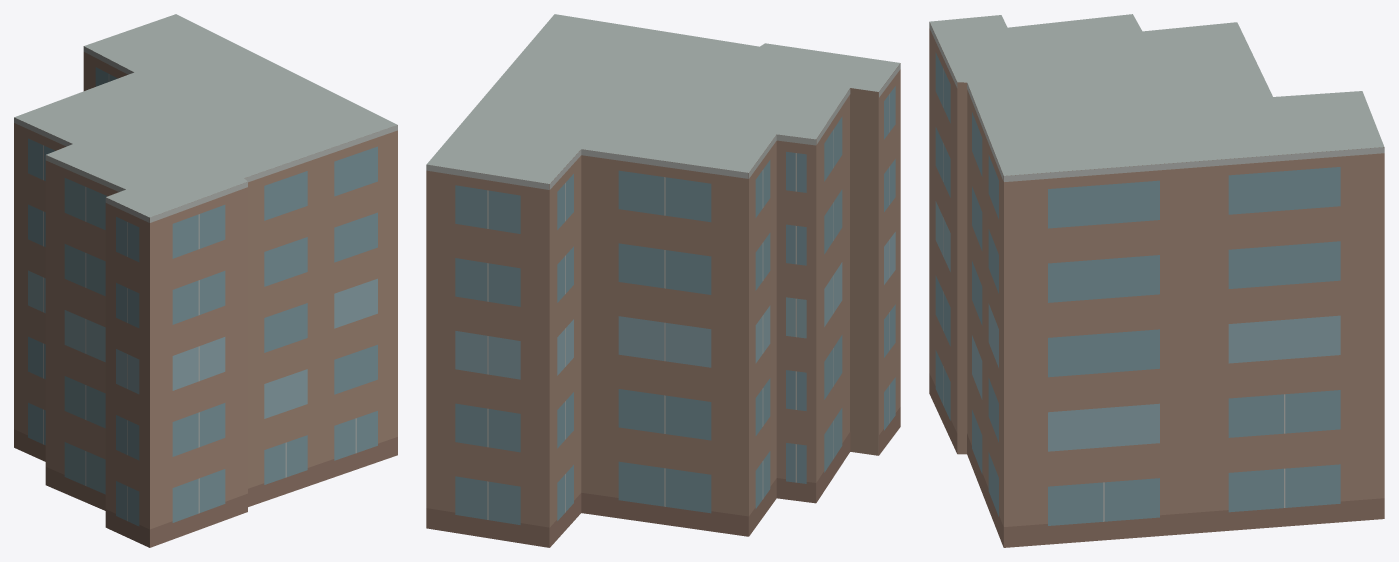
File: survey-upis-32816986.glb
3 views of the same model, side by side, from view 1: azimuth 30°, elevation 25°; view 2: azimuth 150°, elevation 25°; view 3: azimuth 270°, elevation 25° (orthographic). The views are drawn at different scales.
Visible parts, largest first — view 1: survey-upis-32816986.tmp; view 2: survey-upis-32816986.tmp; view 3: survey-upis-32816986.tmp.
Boxes of the visible parts, x1,y1,x2,y2 form: survey-upis-32816986.tmp: (14,14,397,547); survey-upis-32816986.tmp: (426,14,900,547); survey-upis-32816986.tmp: (929,14,1384,547).
Size of the model in its own units: 13.65 by 14.6 by 16.2.
